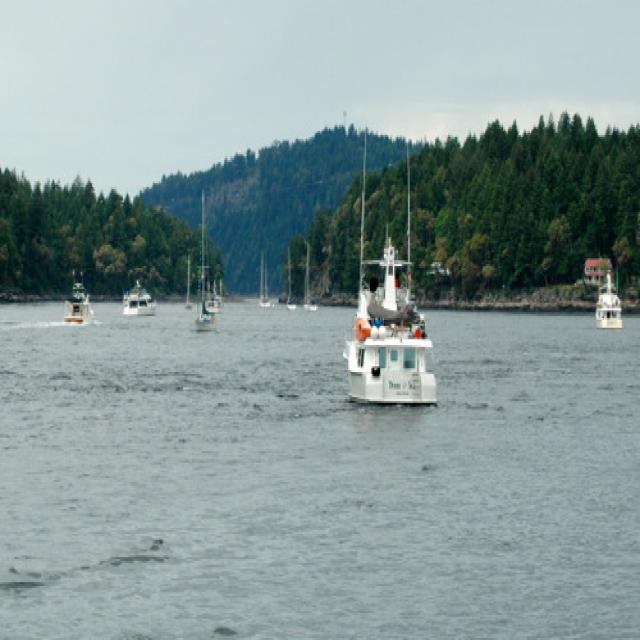houseboat: (338, 241, 436, 411), (591, 275, 625, 331), (119, 277, 158, 316), (59, 283, 94, 325)
